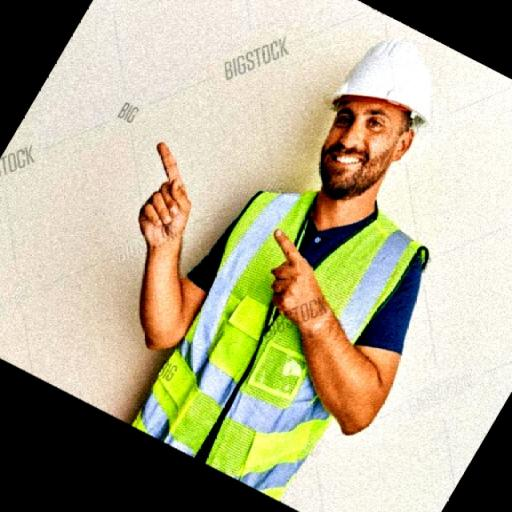Person: (104, 5, 458, 503)
helmet: (320, 27, 442, 137)
vest: (157, 170, 421, 483)
